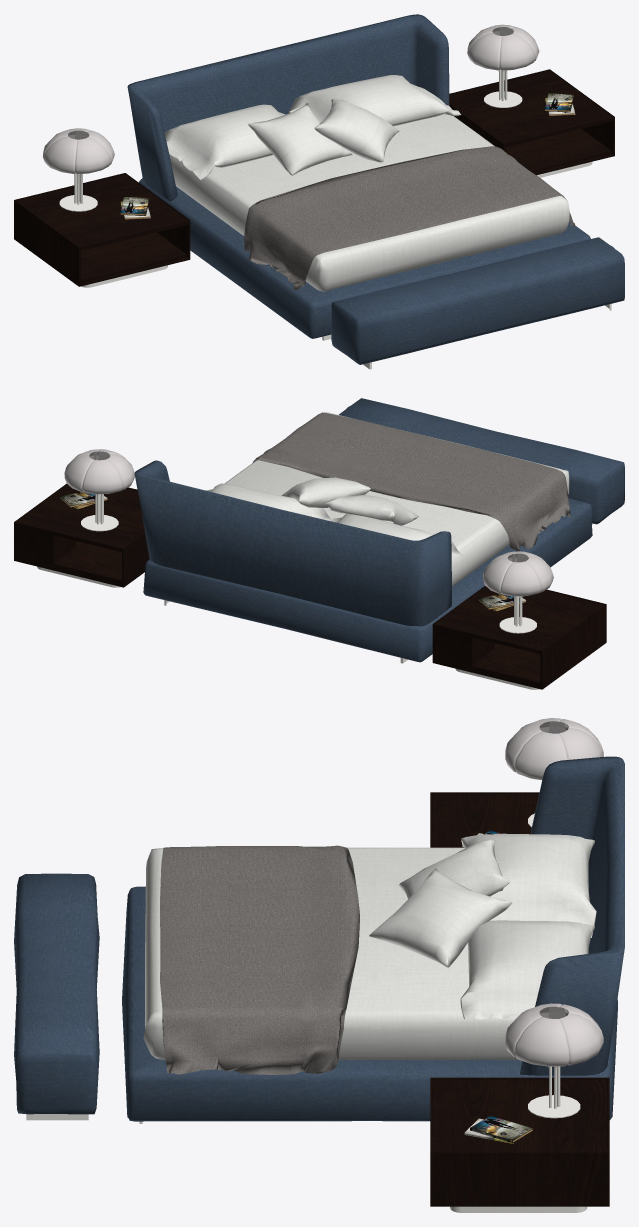
The model's file is kingsizebed2.obj.
3 renders of one model, top to bottom at view 1: azimuth 30°, elevation 25°; view 2: azimuth 150°, elevation 25°; view 3: azimuth 270°, elevation 25°, orthographic. The views are drawn at different scales.
Visible parts, largest first — view 1: defaultMaterial; view 2: defaultMaterial; view 3: defaultMaterial.
Boxes of the visible parts, x1,y1,x2,y2 form: defaultMaterial: (14,14,624,369); defaultMaterial: (14,398,624,689); defaultMaterial: (14,718,624,1212).
Size of the model in its own units: 282 by 66.66 by 202.
